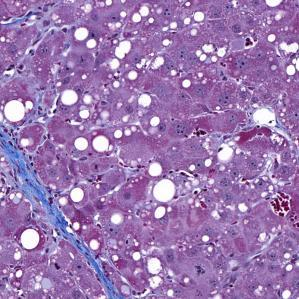fibrosis: (4, 132, 66, 227)
